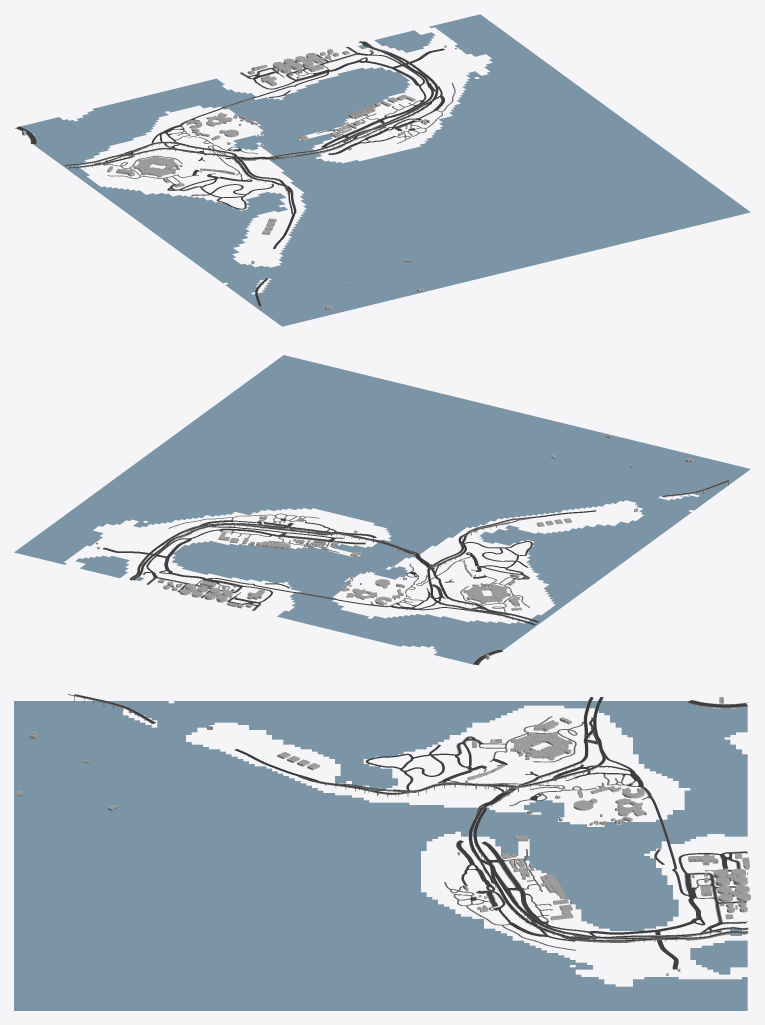
File: chunk_8_6.glb
3 renders of one model, top to bottom at view 1: azimuth 30°, elevation 25°; view 2: azimuth 150°, elevation 25°; view 3: azimuth 270°, elevation 25°, orthographic. The views are drawn at different scales.
Visible parts, largest first — view 1: Water_8_6, Roads_8_6, Buildings_8_6, RoadSides_8_6; view 2: Water_8_6, Roads_8_6, Buildings_8_6, RoadSides_8_6; view 3: Water_8_6, Roads_8_6, Buildings_8_6, RoadSides_8_6.
Part boxes in pixels (x1,y1,x2,y2): Water_8_6: [21, 14, 750, 326]; Roads_8_6: [16, 41, 455, 305]; Buildings_8_6: [22, 45, 457, 309]; RoadSides_8_6: [14, 41, 438, 310]; Water_8_6: [14, 355, 750, 663]; Roads_8_6: [103, 480, 728, 664]; Buildings_8_6: [96, 434, 693, 659]; RoadSides_8_6: [130, 478, 731, 665]; Water_8_6: [14, 701, 747, 1010]; Roads_8_6: [74, 694, 748, 969]; Buildings_8_6: [17, 697, 750, 975]; RoadSides_8_6: [68, 694, 748, 942].
Size of the model in its own units: 2054 by 23.95 by 2058.
